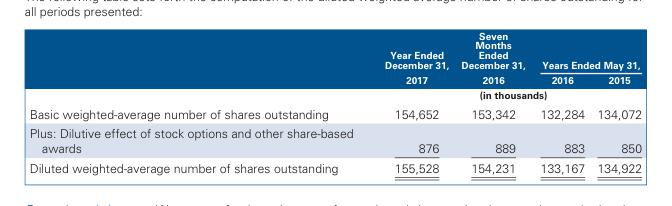table: (28, 29, 641, 175)
table column: (28, 29, 368, 175), (368, 29, 454, 175), (454, 29, 532, 175), (532, 29, 590, 175), (590, 29, 641, 175)
table column header: (28, 29, 641, 103)
table row: (28, 29, 641, 72), (28, 123, 641, 157), (28, 103, 641, 123), (28, 157, 641, 175), (28, 87, 641, 103), (28, 72, 641, 87)
table spanning cell: (368, 29, 454, 87), (532, 29, 641, 72), (454, 29, 532, 87), (368, 87, 641, 103)
